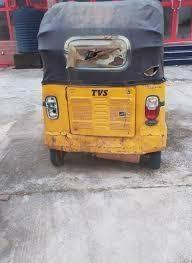keke: (34, 4, 171, 180)
